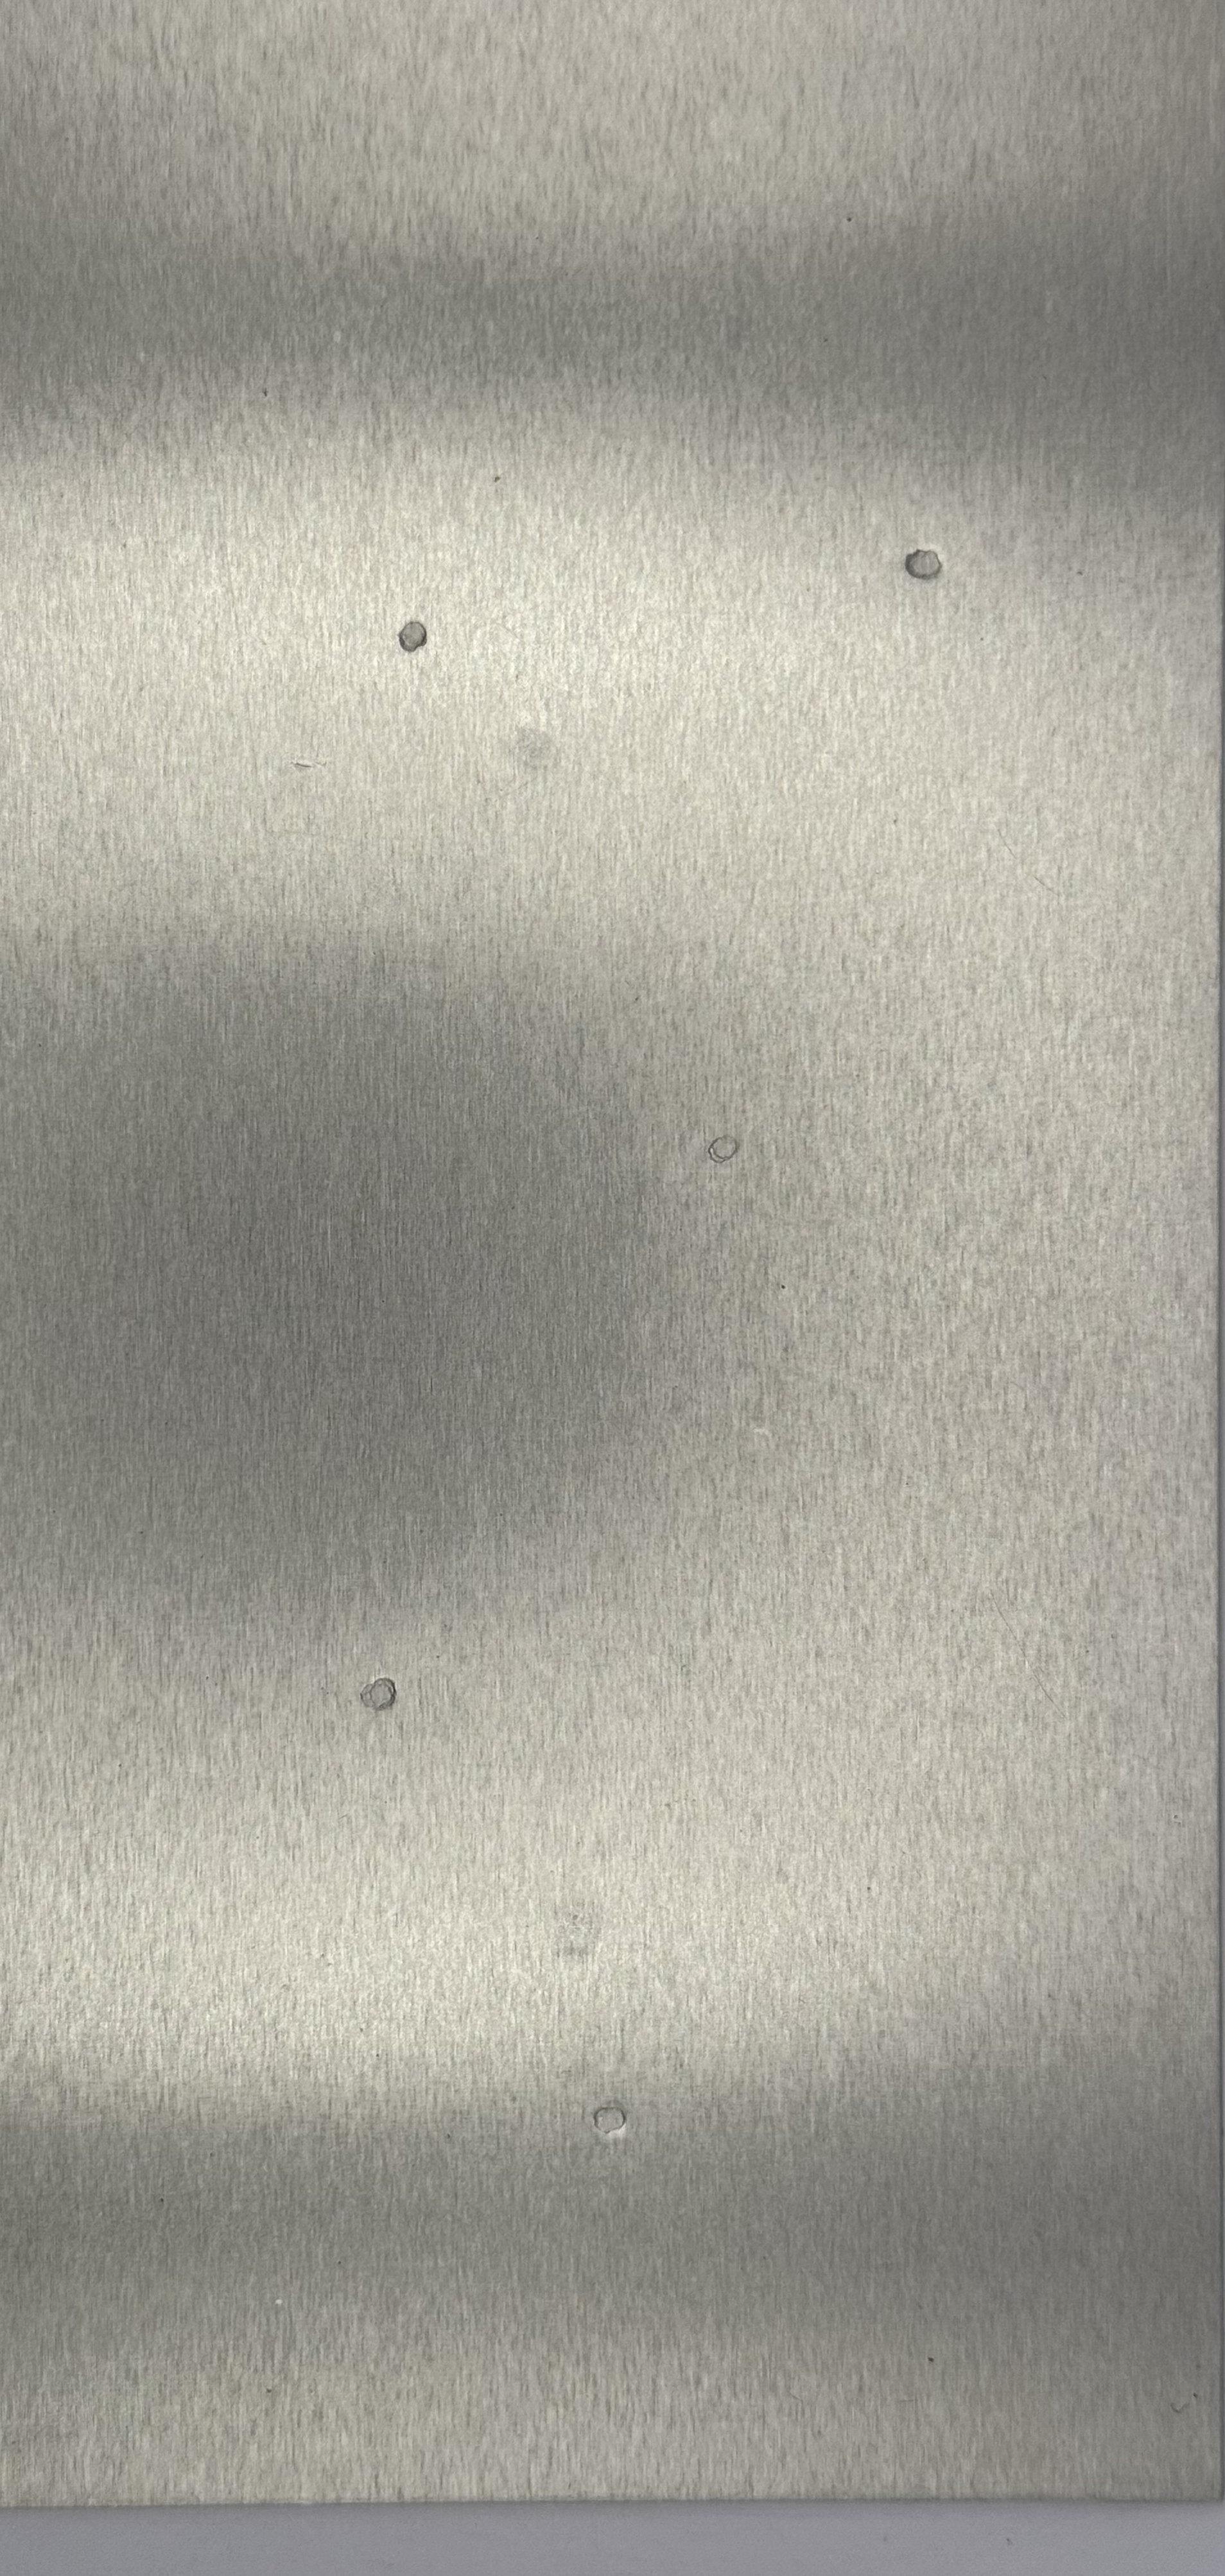Delle: (516, 1865, 616, 1973), (475, 700, 586, 790), (342, 1659, 424, 1733), (573, 2086, 650, 2152), (887, 537, 962, 593), (683, 1119, 749, 1175), (389, 609, 440, 662)
